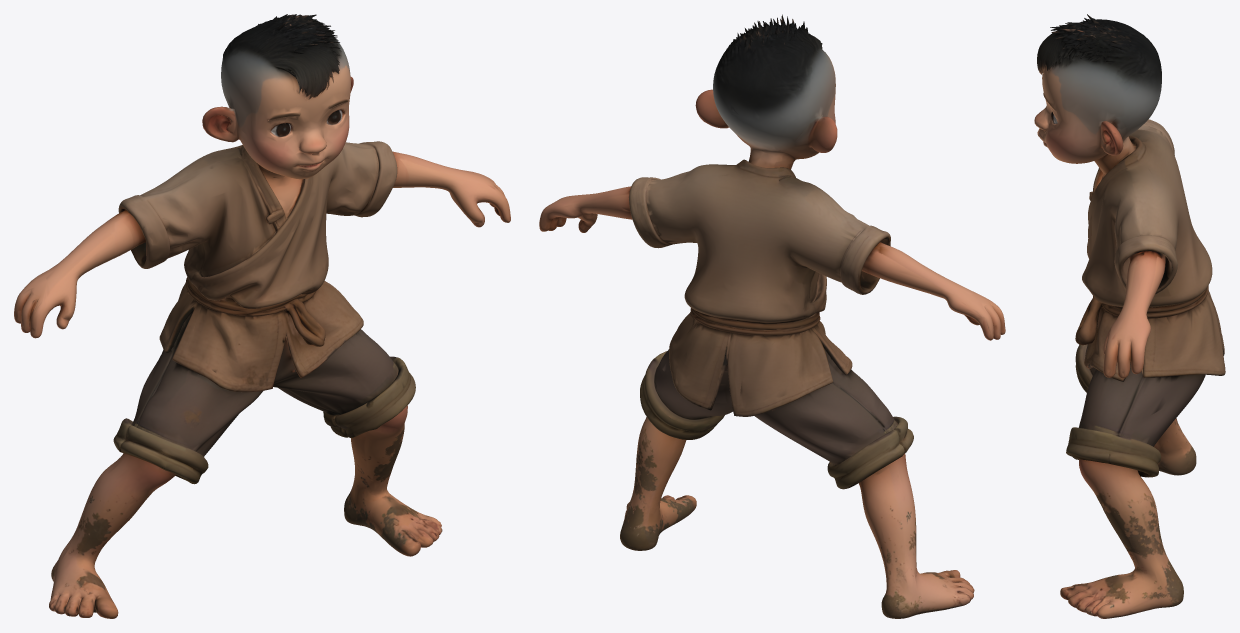
File: trecon.fbx
3 views of the same model, side by side, from view 1: azimuth 30°, elevation 25°; view 2: azimuth 150°, elevation 25°; view 3: azimuth 270°, elevation 25° (orthographic). The views are drawn at different scales.
Parts seen in each view (by area): view 1: node_0; view 2: node_0; view 3: node_0.
Part boxes in pixels (x1,y1,x2,y2): node_0: [14, 14, 510, 618]; node_0: [539, 14, 1005, 618]; node_0: [1034, 14, 1225, 618].
Bounding box in the file's own units: 86.5 × 95.13 × 30.9.
Materials: 1 (1 with a texture image).
